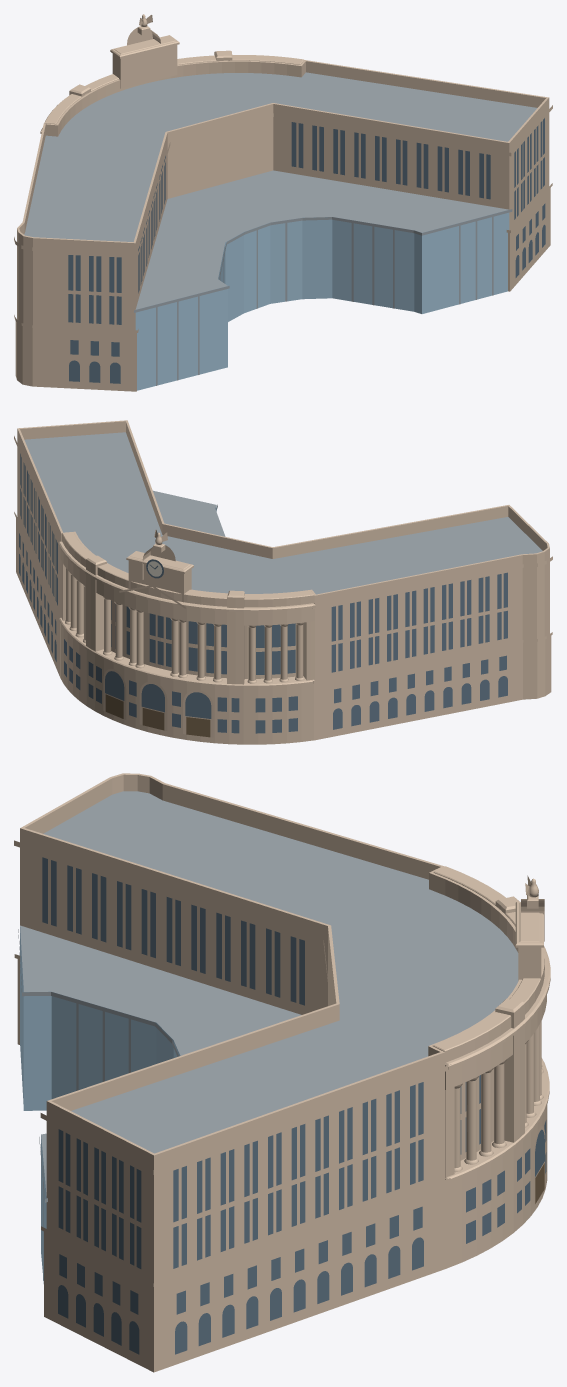
Rendered from bos-south-station.glb.
3 renders of one model, top to bottom at view 1: azimuth 30°, elevation 25°; view 2: azimuth 150°, elevation 25°; view 3: azimuth 270°, elevation 25°, orthographic. The views are drawn at different scales.
Visible parts, largest first — view 1: South Station; view 2: South Station; view 3: South Station.
Boxes of the visible parts, x1,y1,x2,y2 form: South Station: [14, 14, 552, 391]; South Station: [14, 420, 552, 744]; South Station: [14, 773, 550, 1372].
Bounding box in the file's own units: 126 × 45.2 × 74.42.
